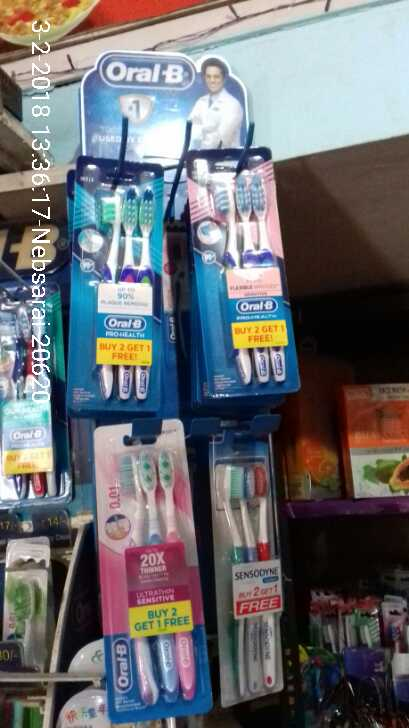oralb: (115, 452, 196, 709), (205, 159, 293, 383), (90, 181, 165, 401)
